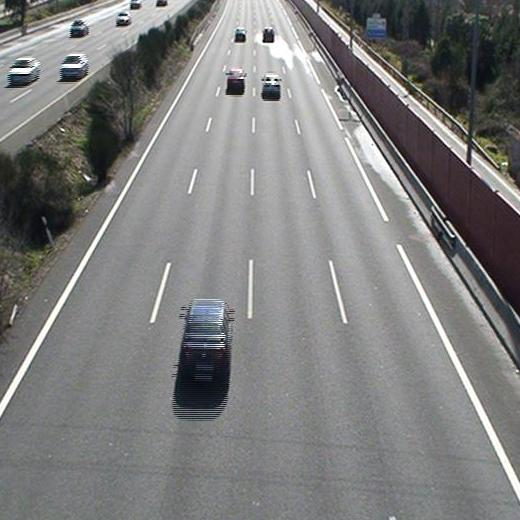car: (180, 299, 232, 385), (227, 67, 245, 94), (262, 73, 281, 97), (262, 26, 275, 43), (235, 27, 245, 40)
